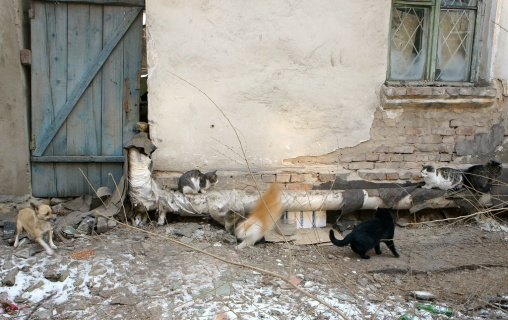Cat: (329, 208, 406, 259), (420, 163, 463, 189), (178, 168, 218, 194)
